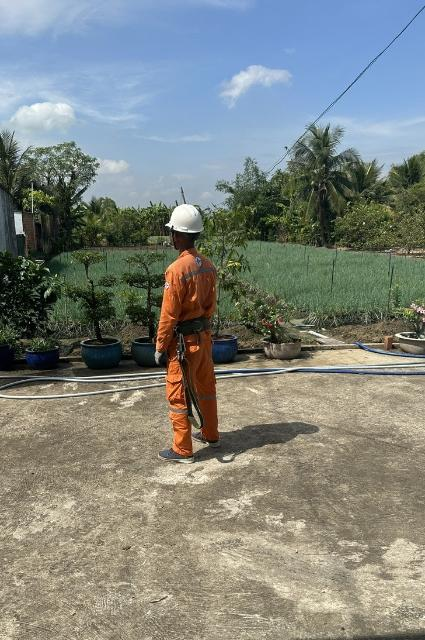gloves: (146, 350, 169, 363)
harness: (156, 318, 227, 337)
helmet: (160, 202, 212, 235)
shoes: (154, 439, 205, 470), (187, 429, 222, 448)
